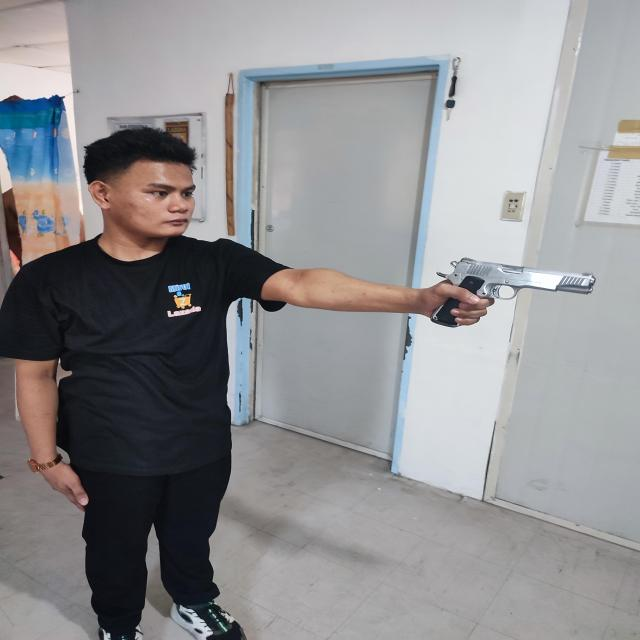pistol: (430, 258, 596, 328)
